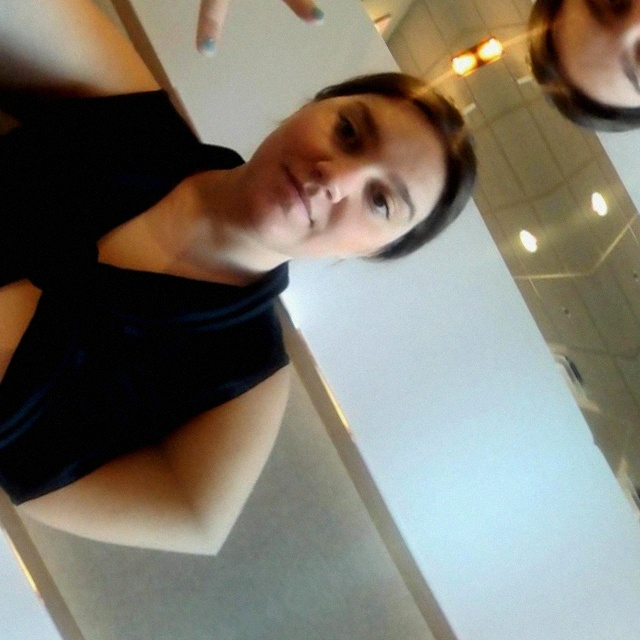Scissors: (99, 0, 368, 114)
